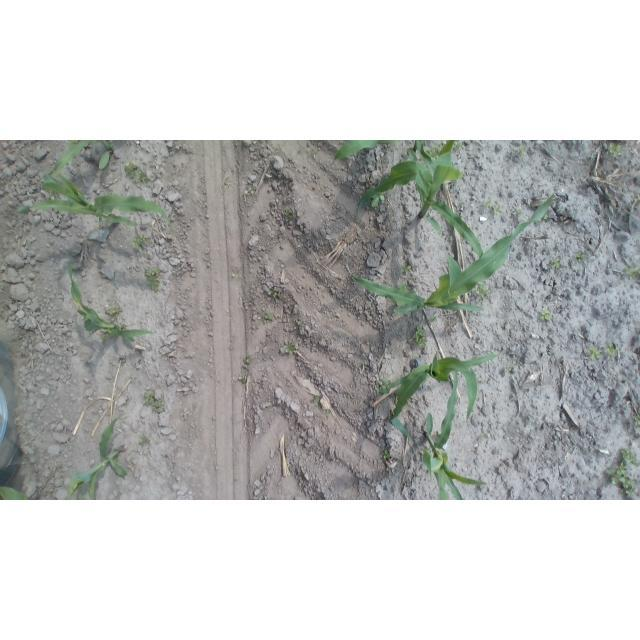Maize: (344, 192, 559, 320), (362, 140, 486, 258), (382, 348, 502, 440), (10, 169, 178, 234), (418, 365, 486, 500), (64, 258, 161, 345), (67, 411, 128, 500), (43, 141, 121, 176), (335, 140, 432, 160), (0, 484, 34, 500)
Weeds: (603, 446, 640, 497), (122, 156, 152, 189), (143, 391, 166, 415), (373, 377, 398, 399), (144, 264, 162, 292), (620, 258, 640, 281), (129, 233, 153, 252), (412, 323, 428, 349), (480, 198, 503, 216), (426, 143, 442, 164), (475, 283, 493, 301), (371, 190, 386, 210), (103, 305, 125, 318), (605, 344, 622, 360), (607, 143, 623, 160), (283, 339, 300, 355), (308, 389, 323, 407), (585, 347, 603, 361), (538, 308, 553, 324), (266, 286, 281, 302), (399, 283, 418, 295), (242, 355, 255, 370), (575, 251, 589, 264), (512, 208, 526, 221), (307, 145, 320, 159), (551, 257, 564, 271), (262, 312, 277, 324), (381, 449, 394, 462), (322, 408, 334, 421), (230, 266, 243, 278), (518, 145, 530, 157), (448, 140, 460, 152), (401, 262, 412, 275), (138, 435, 151, 446), (539, 209, 551, 220), (283, 210, 294, 222), (238, 372, 248, 384), (245, 184, 255, 196), (633, 413, 640, 429), (503, 364, 513, 375), (429, 314, 441, 323), (100, 333, 110, 342), (479, 433, 489, 442), (634, 192, 640, 204), (296, 322, 304, 330)
